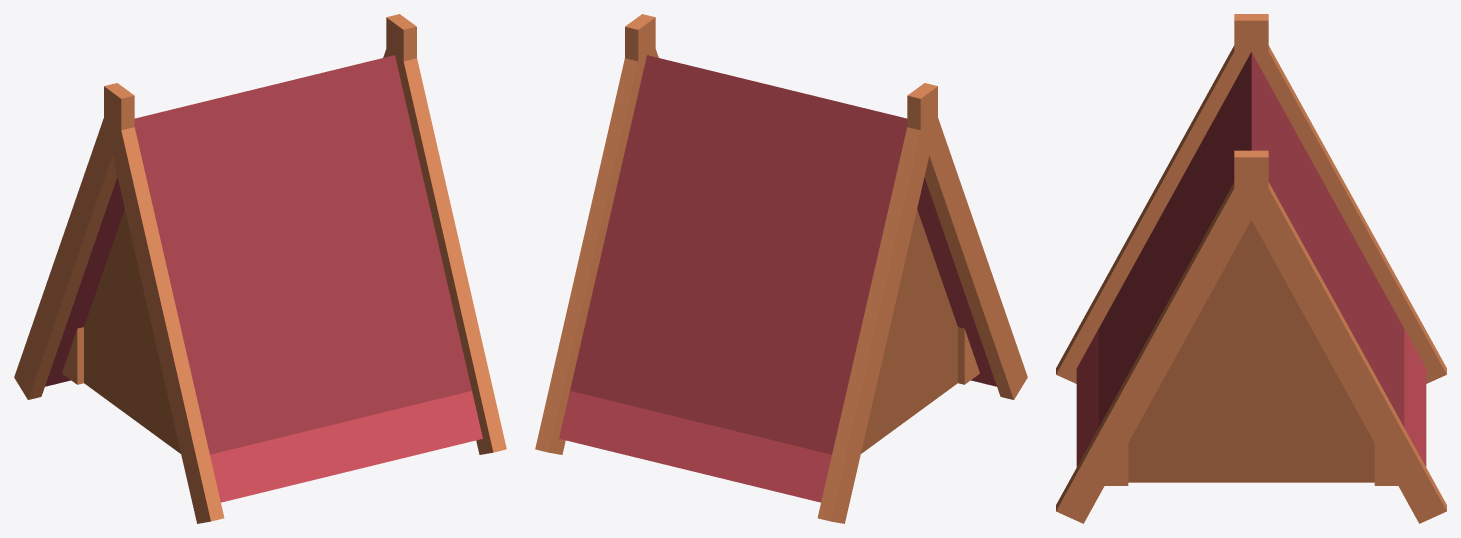
File: roofHighGableDetail.fbx
The picture shows the model from 3 angles, left to right: view 1: azimuth 30°, elevation 25°; view 2: azimuth 150°, elevation 25°; view 3: azimuth 270°, elevation 25°; orthographic projection.
Visible parts, largest first — view 1: roofHighGableDetail; view 2: roofHighGableDetail; view 3: roofHighGableDetail.
Part boxes in pixels (x1=…): roofHighGableDetail: x1=14, y1=14, x2=506, y2=523; roofHighGableDetail: x1=535, y1=14, x2=1027, y2=523; roofHighGableDetail: x1=1056, y1=14, x2=1446, y2=523.
Size of the model in its own units: 11 by 13.13 by 12.68.
